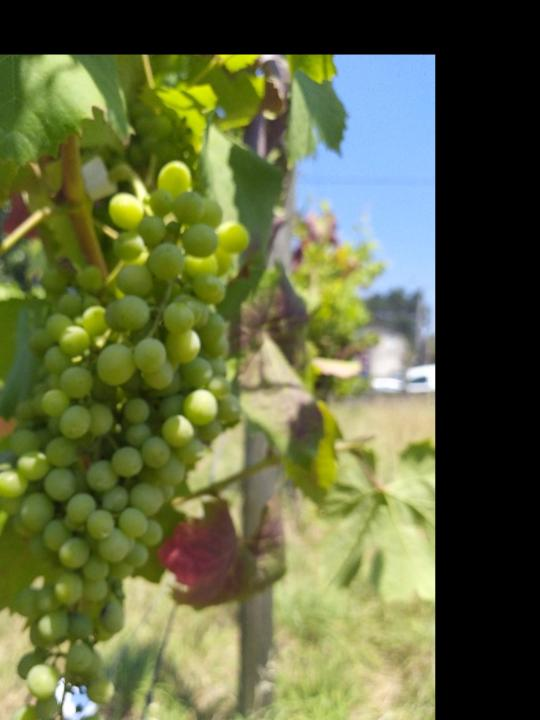grape: (0, 162, 250, 720)
